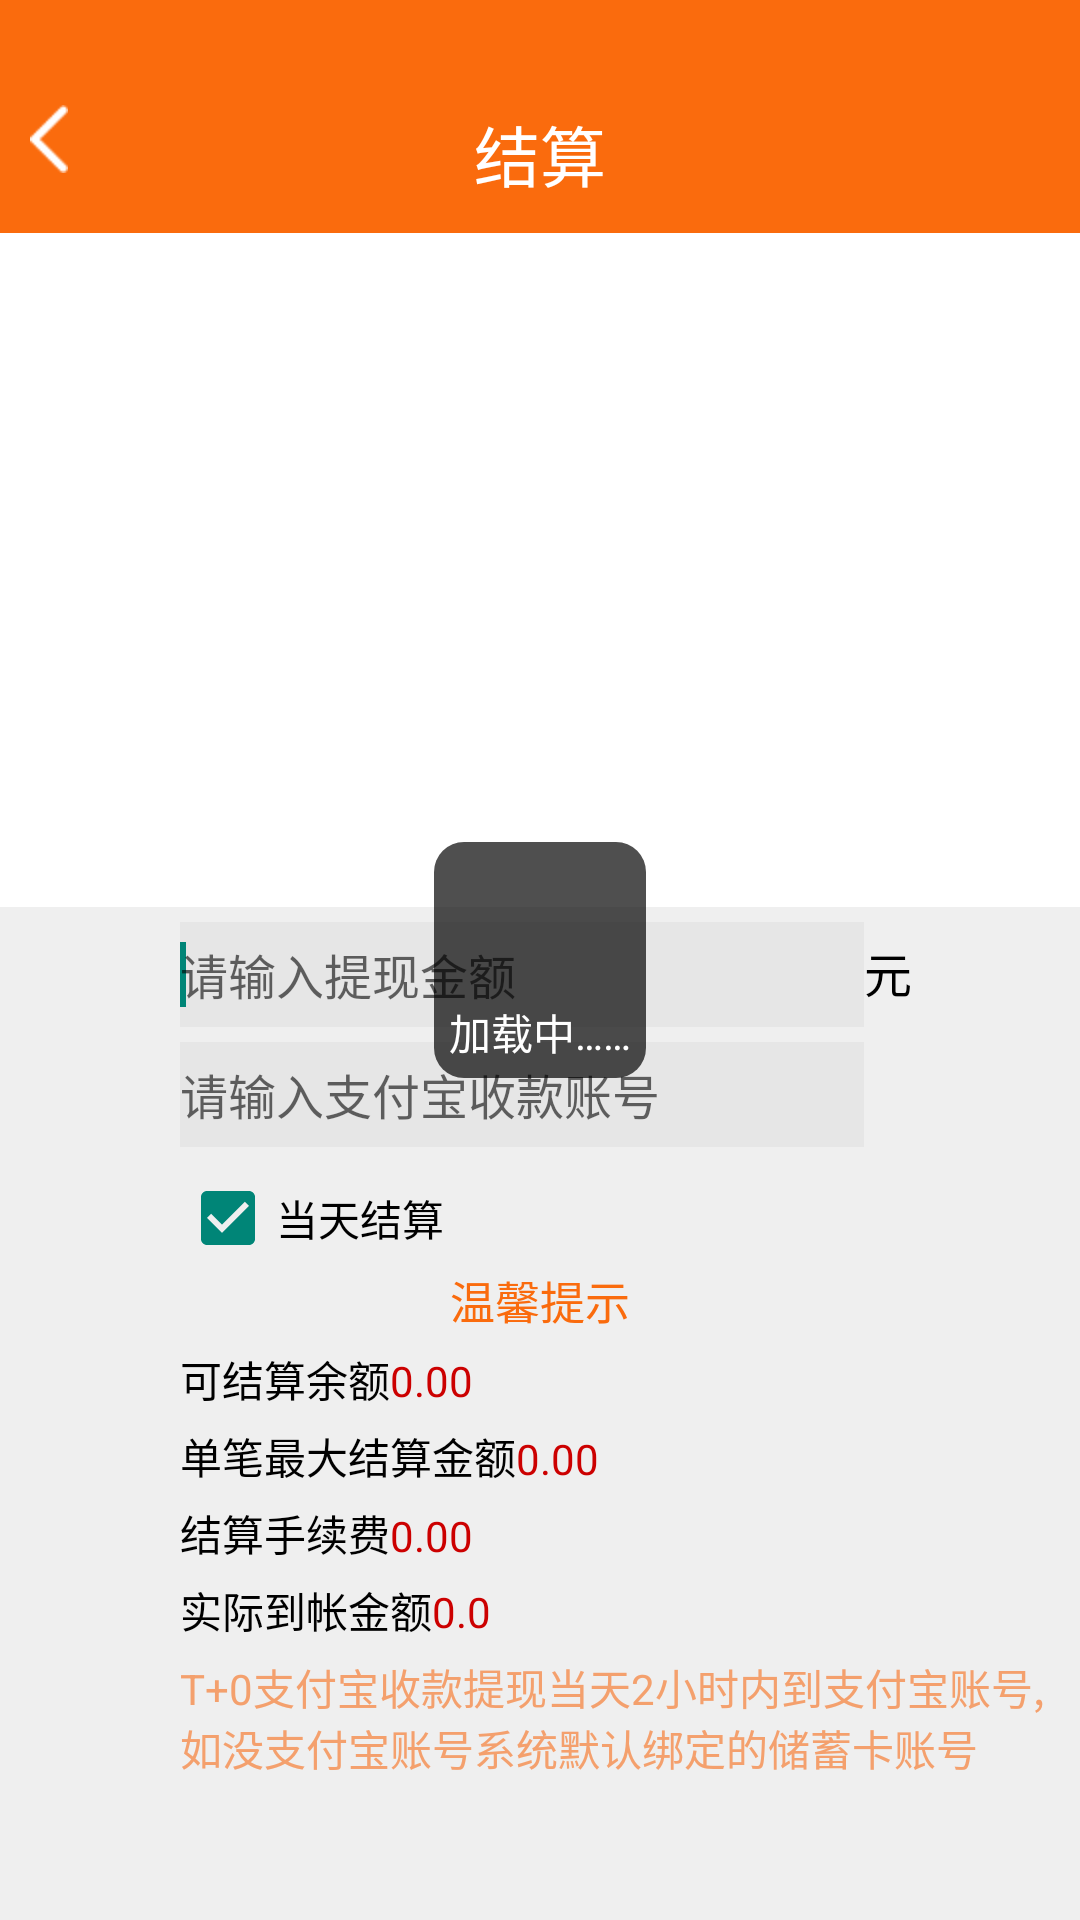

Point at icon controls on the screen. Image size 1080*1920, points as (x,y).
chevron left: (49,139)
